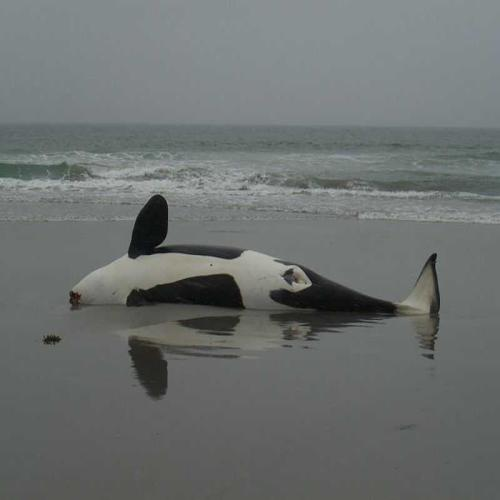killer_whale-endangered: (59, 173, 448, 360)
